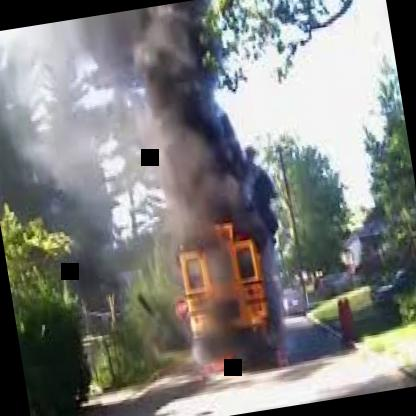fire: (136, 24, 291, 392)
